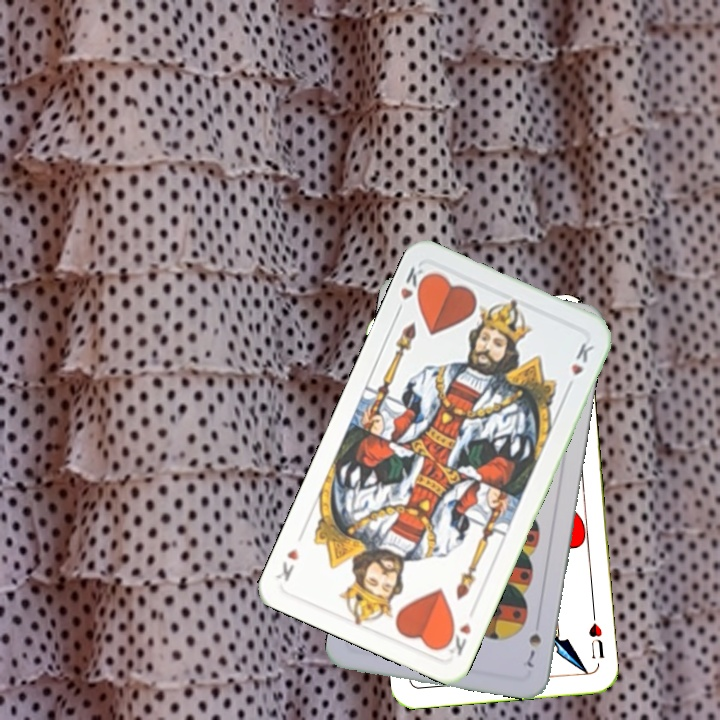HK: (392, 262, 432, 318), (439, 619, 474, 659)
HU: (585, 608, 607, 662)
S7: (523, 629, 544, 670)
